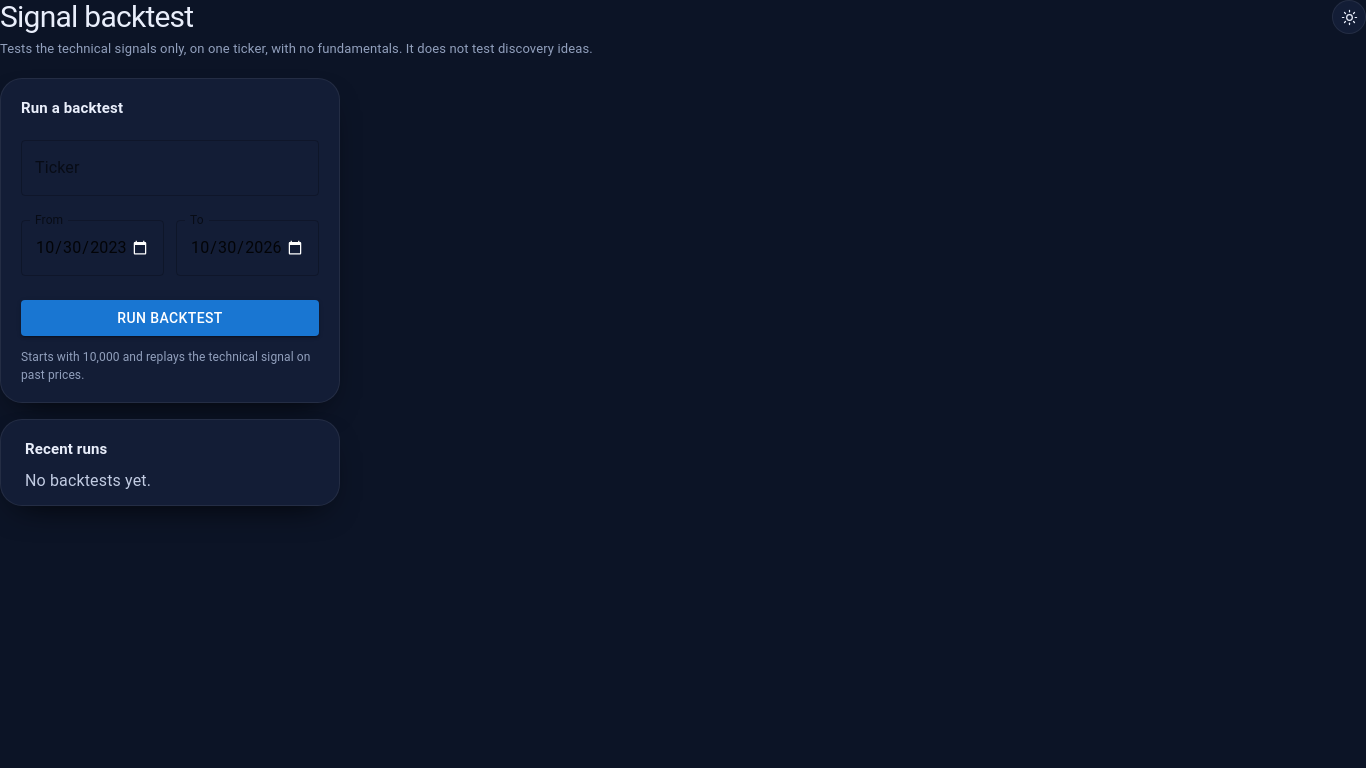
Test: BacktestsPage › keeps the shown result when the next run fails to start
The image size is (1366, 768).
Expected: the text "No backtests yet." is shown, [25, 470, 151, 490]
Step 1. Type "AAPL" into the dropdown labelled "Ticker" → (170, 168), box [30, 148, 310, 186]
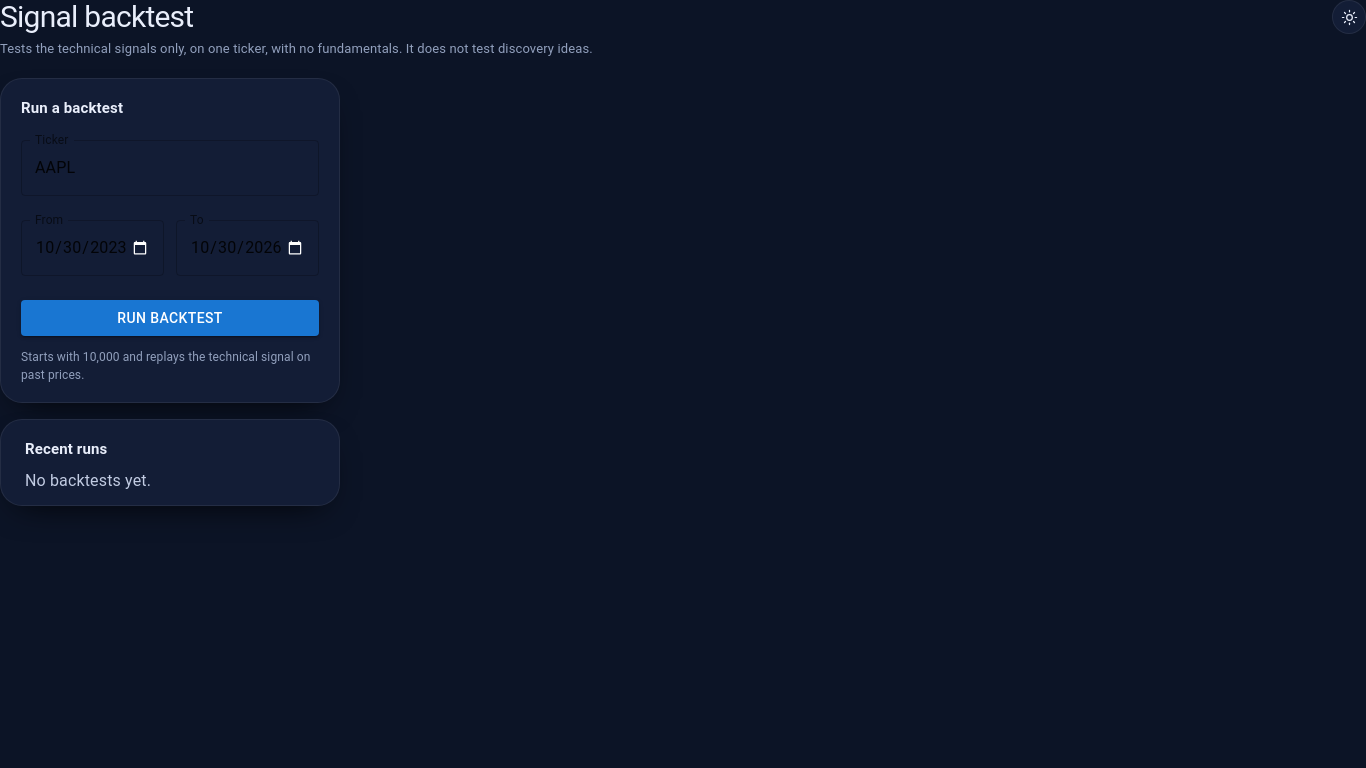
Step 2. Click the button "Run backtest" → (170, 318), box [21, 300, 319, 336]
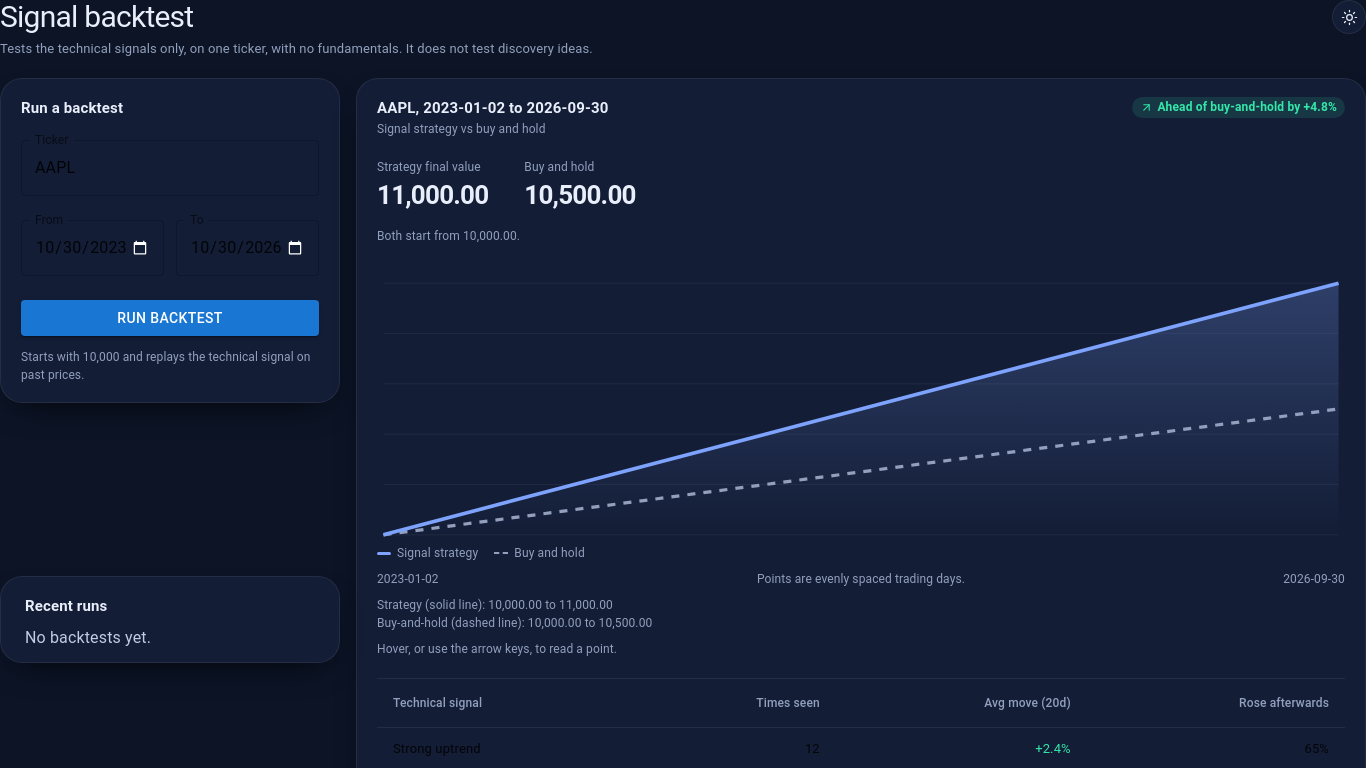
Result: the text "11,000.00" is shown at [377, 176, 488, 214]
Step 3. Click the button "Run backtest" → (170, 318), box [21, 300, 319, 336]
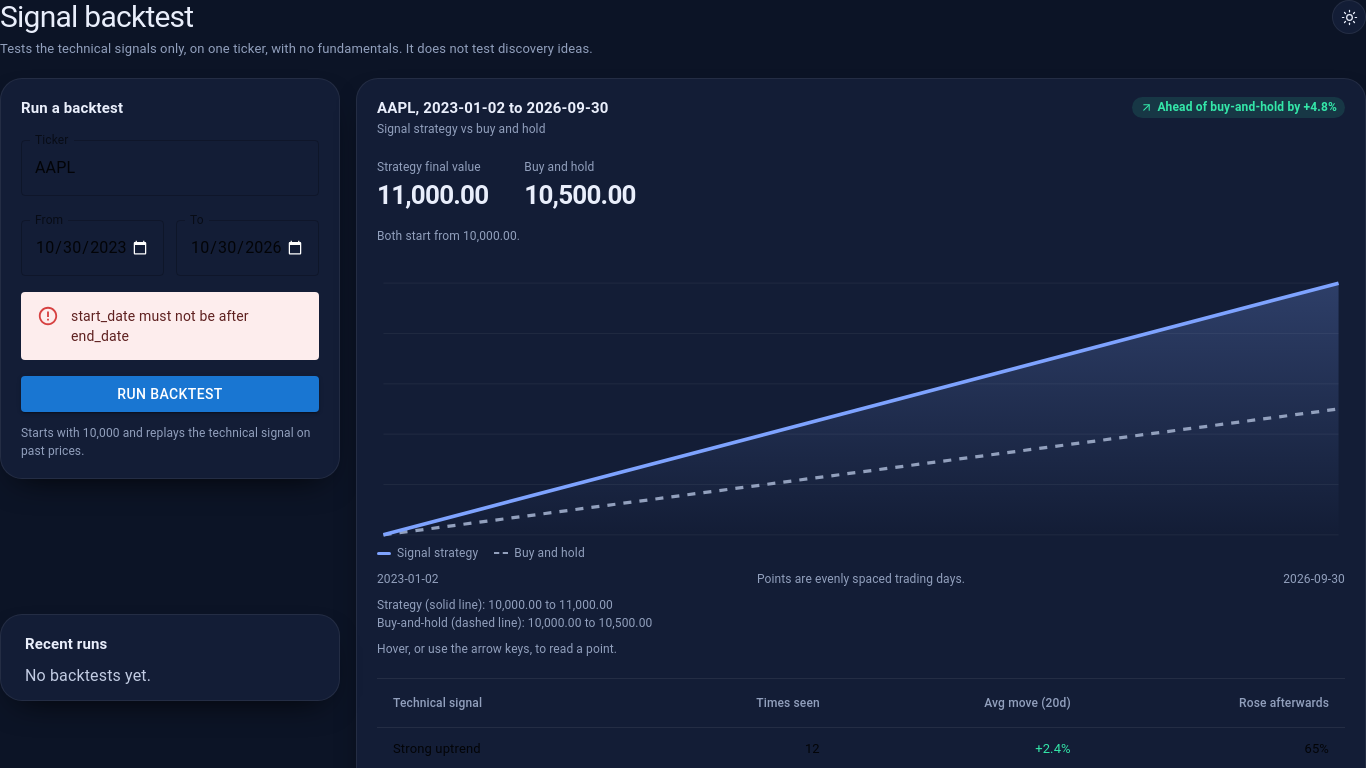
Result: the text "11,000.00" is shown at [377, 176, 488, 214]
Result: the text "start_date must not be after end_date" is shown at [71, 308, 249, 344]
